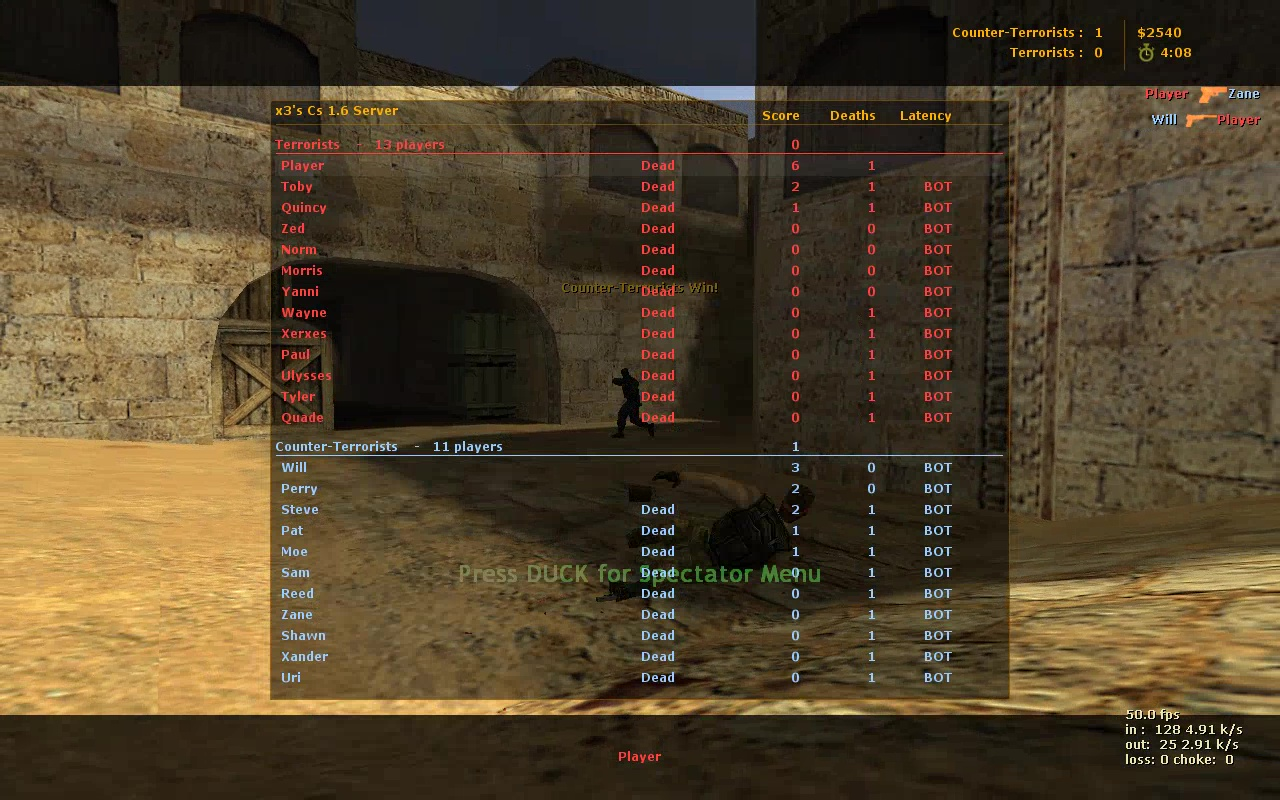ct: (606, 367, 655, 439)
dead: (612, 469, 817, 615)
